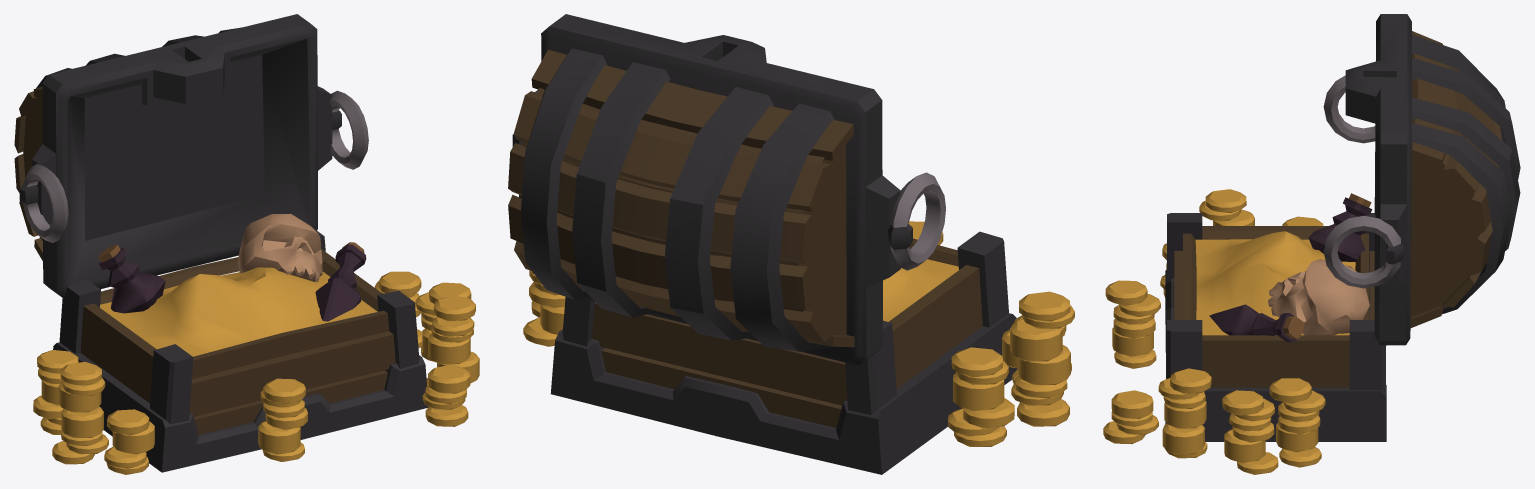
The model's file is chest-gold.glb.
The picture shows the model from 3 angles, left to right: view 1: azimuth 30°, elevation 25°; view 2: azimuth 150°, elevation 25°; view 3: azimuth 270°, elevation 25°; orthographic projection. The views are drawn at different scales.
Visible parts, largest first — view 1: Prop_Chest_Gold; view 2: Prop_Chest_Gold; view 3: Prop_Chest_Gold.
Boxes of the visible parts, box(x1,y1,x2,y2) form: Prop_Chest_Gold: box(14, 14, 479, 474); Prop_Chest_Gold: box(508, 14, 1074, 474); Prop_Chest_Gold: box(1103, 14, 1520, 474).
Bounding box in the file's own units: 1.82 × 1.28 × 1.59.
